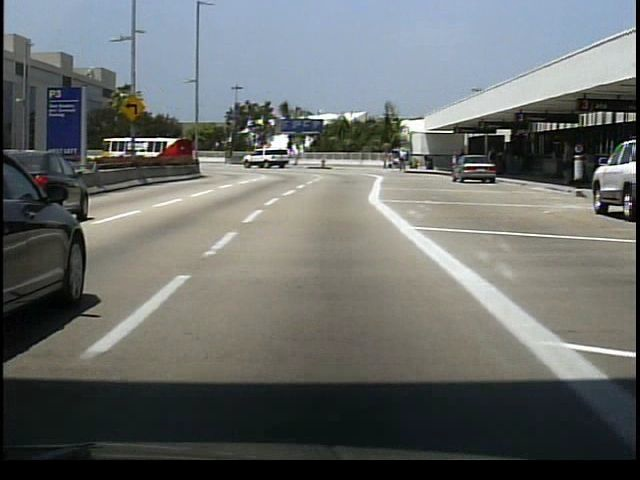person: (487, 149, 503, 182), (399, 145, 408, 174), (381, 148, 390, 172)
